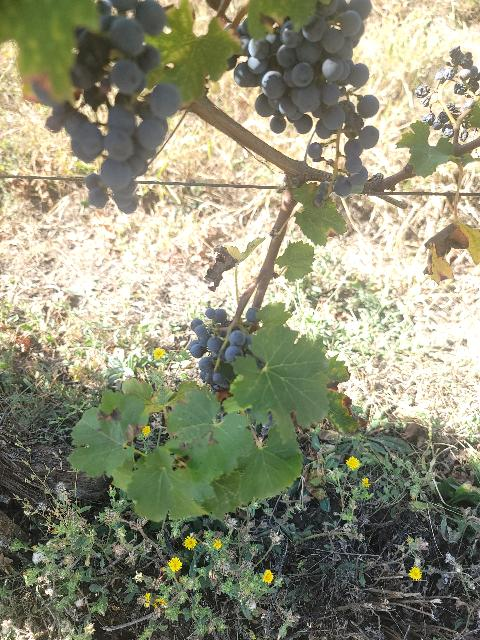grapes: (34, 0, 181, 214), (234, 0, 372, 131), (189, 308, 260, 390)
